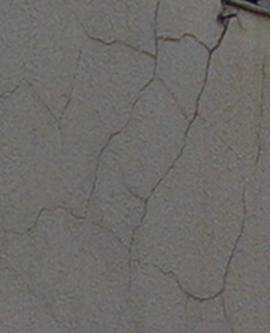fissura: (28, 3, 252, 333)
